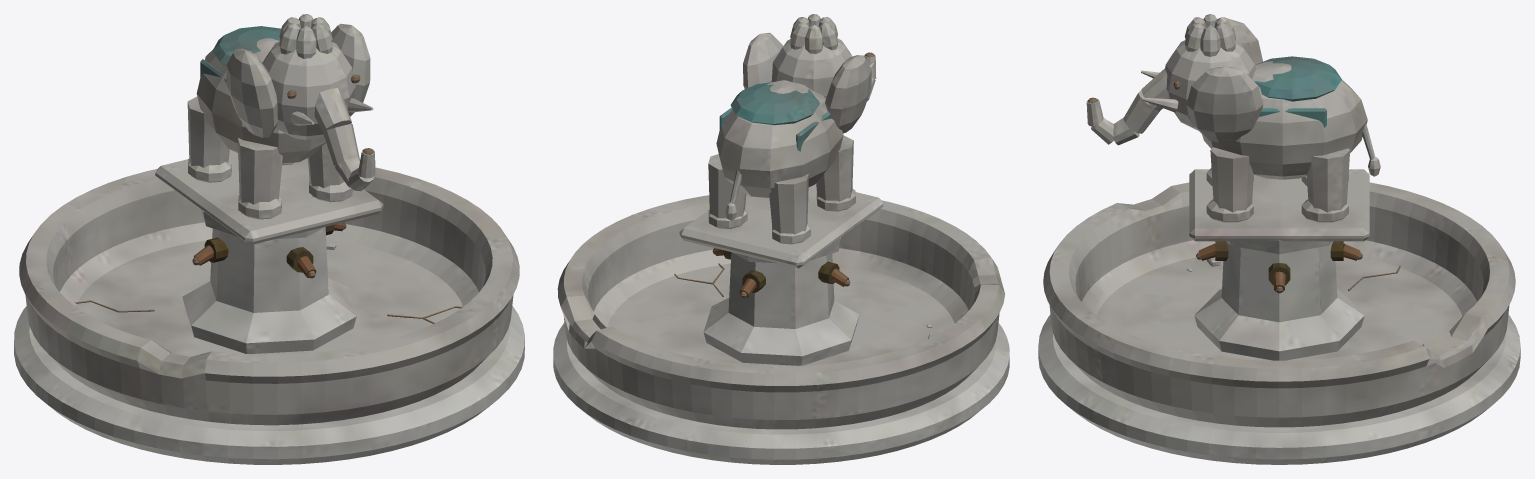
The model's file is RE18_dry_garden_fountain.glb.
The picture shows the model from 3 angles, left to right: view 1: azimuth 30°, elevation 25°; view 2: azimuth 150°, elevation 25°; view 3: azimuth 270°, elevation 25°; orthographic projection. The views are drawn at different scales.
Parts seen in each view (by area): view 1: Stepped fountain footing; view 2: Stepped fountain footing; view 3: Stepped fountain footing.
Part boxes in pixels (<box>): Stepped fountain footing: <box>14,14,524,464</box>; Stepped fountain footing: <box>553,14,1009,464</box>; Stepped fountain footing: <box>1038,14,1520,464</box>.
Size of the model in its own units: 3 by 2.39 by 3.
6 materials, 6 textured.
